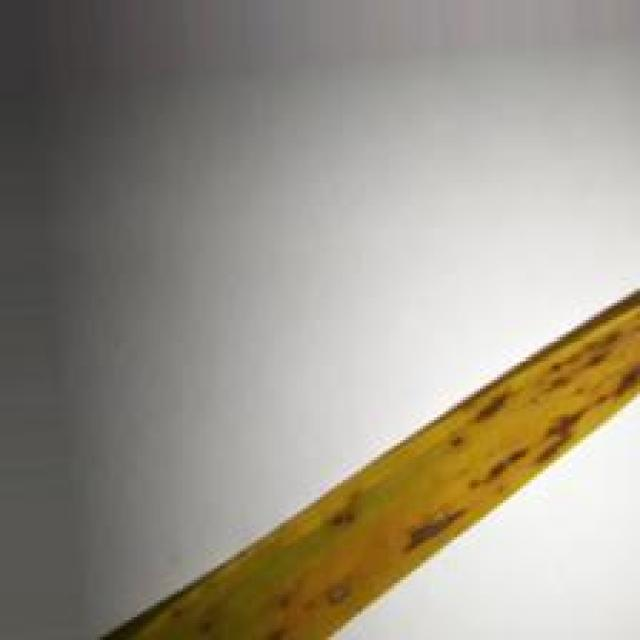Narrow_Brown_Leaf_Spot: (86, 288, 640, 640)
